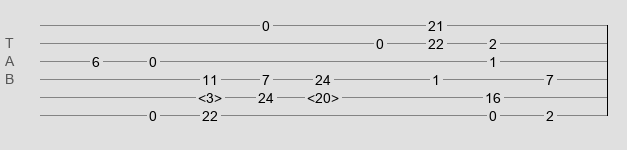0: (149, 108, 157, 118), (149, 54, 157, 64), (262, 18, 270, 28), (376, 36, 384, 46), (489, 108, 497, 118)
1: (432, 72, 440, 82), (489, 54, 497, 64)
11: (202, 72, 218, 82)
16: (485, 90, 501, 100)
2: (489, 36, 497, 46), (546, 108, 554, 118)
21: (428, 18, 444, 28)
22: (202, 108, 218, 118), (428, 36, 444, 46)
24: (258, 90, 274, 100), (315, 72, 331, 82)
6: (92, 54, 100, 64)
7: (262, 72, 270, 82), (546, 72, 554, 82)
harmonic: (307, 90, 339, 100), (198, 90, 222, 100)
